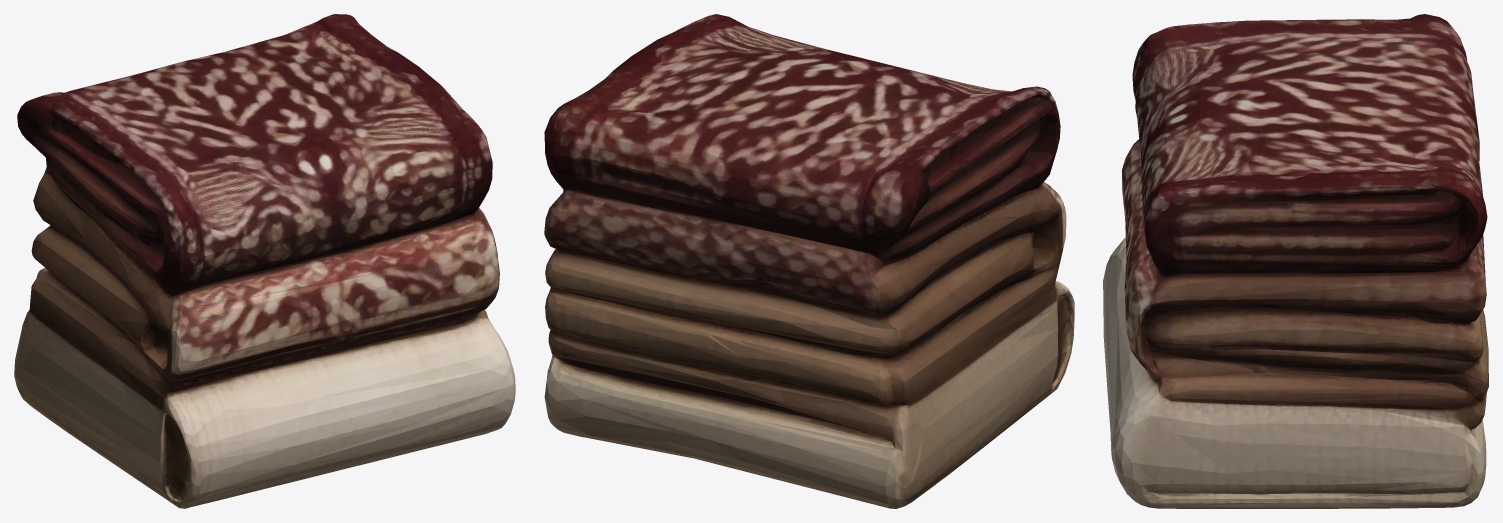
3 views of the same model, side by side, from view 1: azimuth 30°, elevation 25°; view 2: azimuth 150°, elevation 25°; view 3: azimuth 270°, elevation 25° (orthographic). The views are drawn at different scales.
Visible parts, largest first — view 1: geometry_0; view 2: geometry_0; view 3: geometry_0.
Part boxes in pixels (x1,y1,x2,y2): geometry_0: [14, 14, 515, 508]; geometry_0: [544, 14, 1074, 508]; geometry_0: [1103, 14, 1488, 508].
Size of the model in its own units: 0.4944 by 0.4319 by 0.4558.
Materials: 1 (1 with a texture image).
